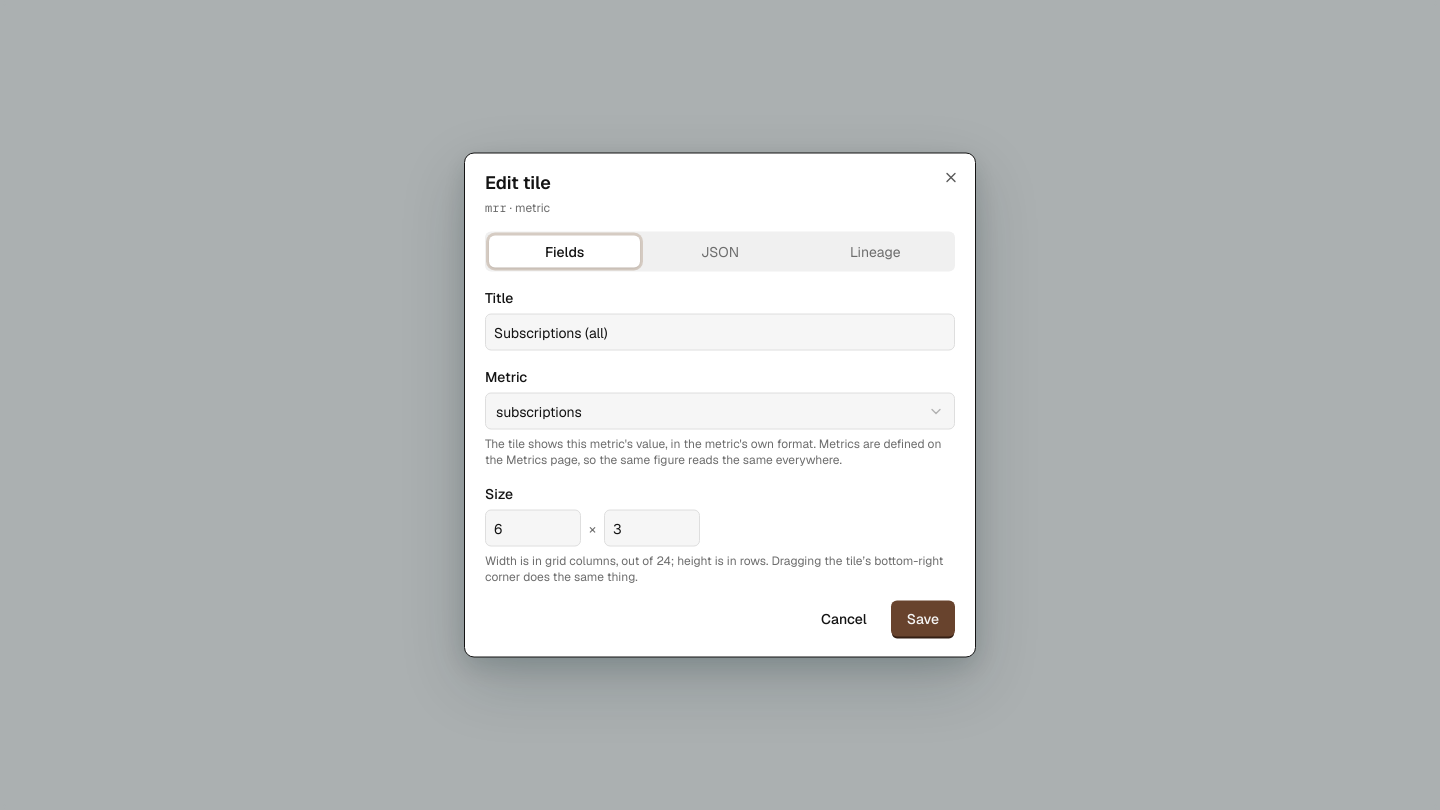
Test: TileEditor › offers the shared metrics, not columns to aggregate
What coordinates should you click on to do the following:
click the dropdown named "Metric"
I would click on:
 (539, 411)
Its box is [485, 392, 955, 430].
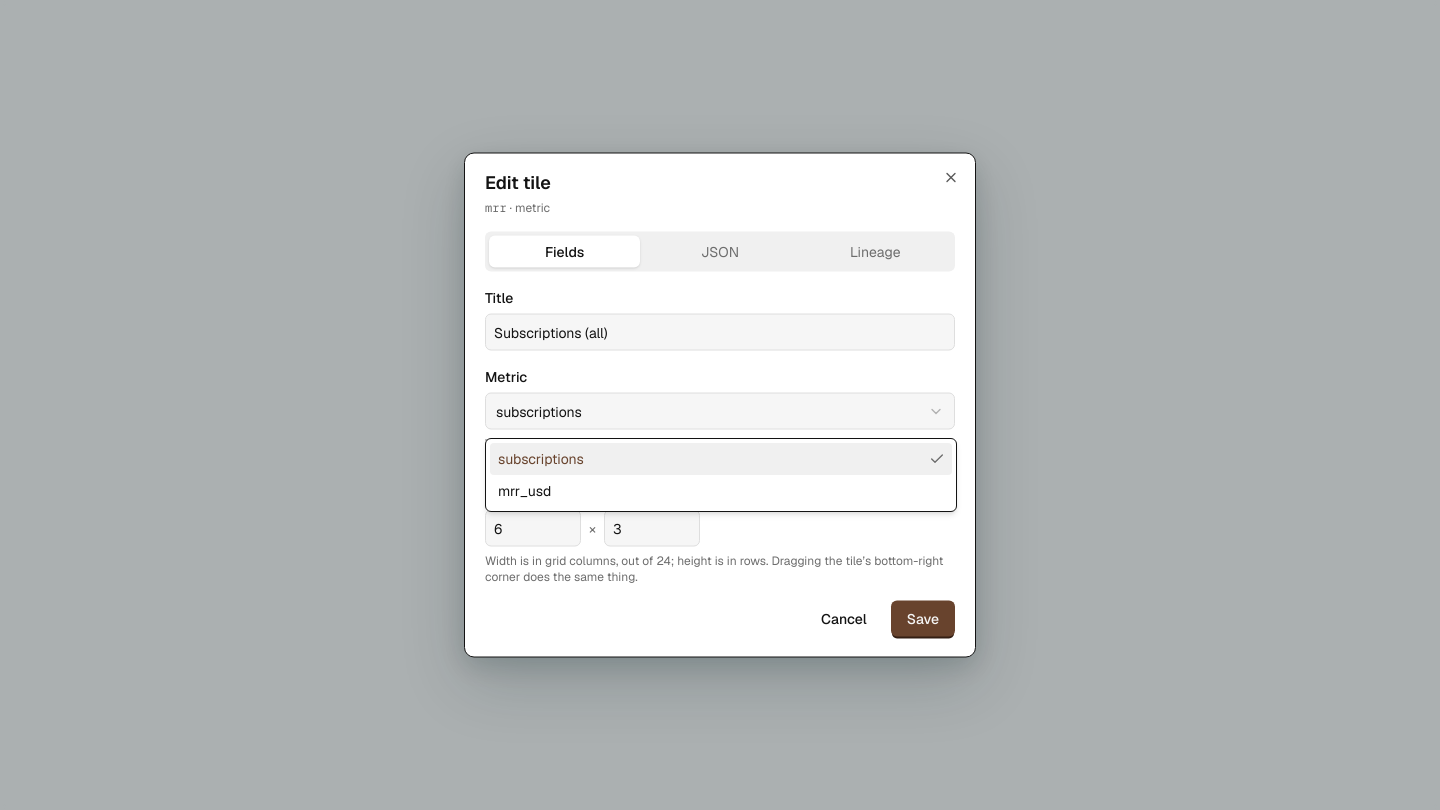
Expected: the options read "subscriptions", "mrr_usd", in this order, [490, 443, 952, 475]; [498, 482, 551, 500]
